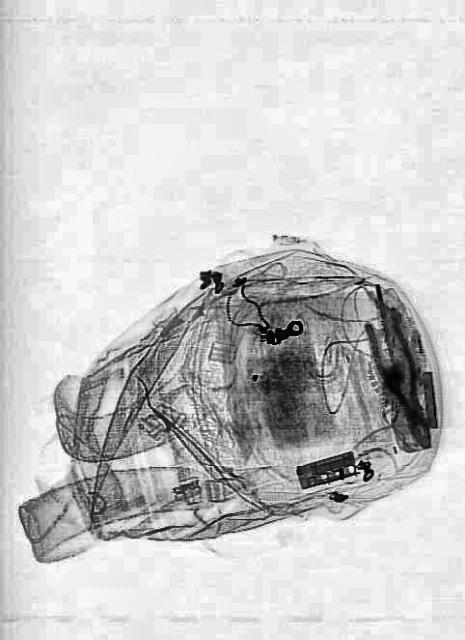Pliers: (360, 305, 446, 457)
